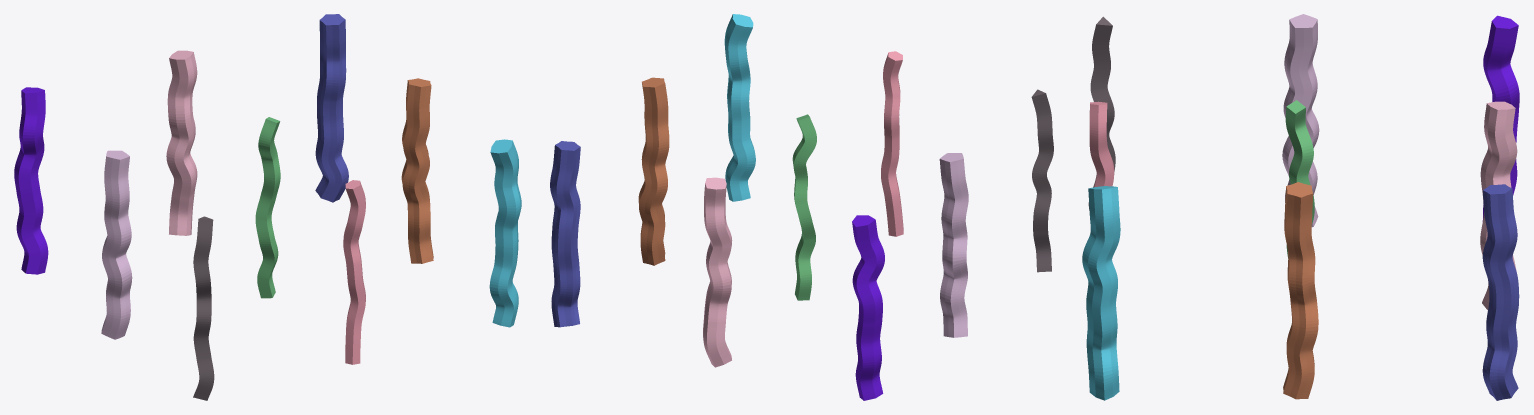
File: Standard Normal Mapped_Opened Spline_2023-07-23-20-47-45.gltf
3 renders of one model, left to right at view 1: azimuth 30°, elevation 25°; view 2: azimuth 150°, elevation 25°; view 3: azimuth 270°, elevation 25°, orthographic. The views are drawn at different scales.
Bounding box in the file's own units: 440 × 235 × 440.
